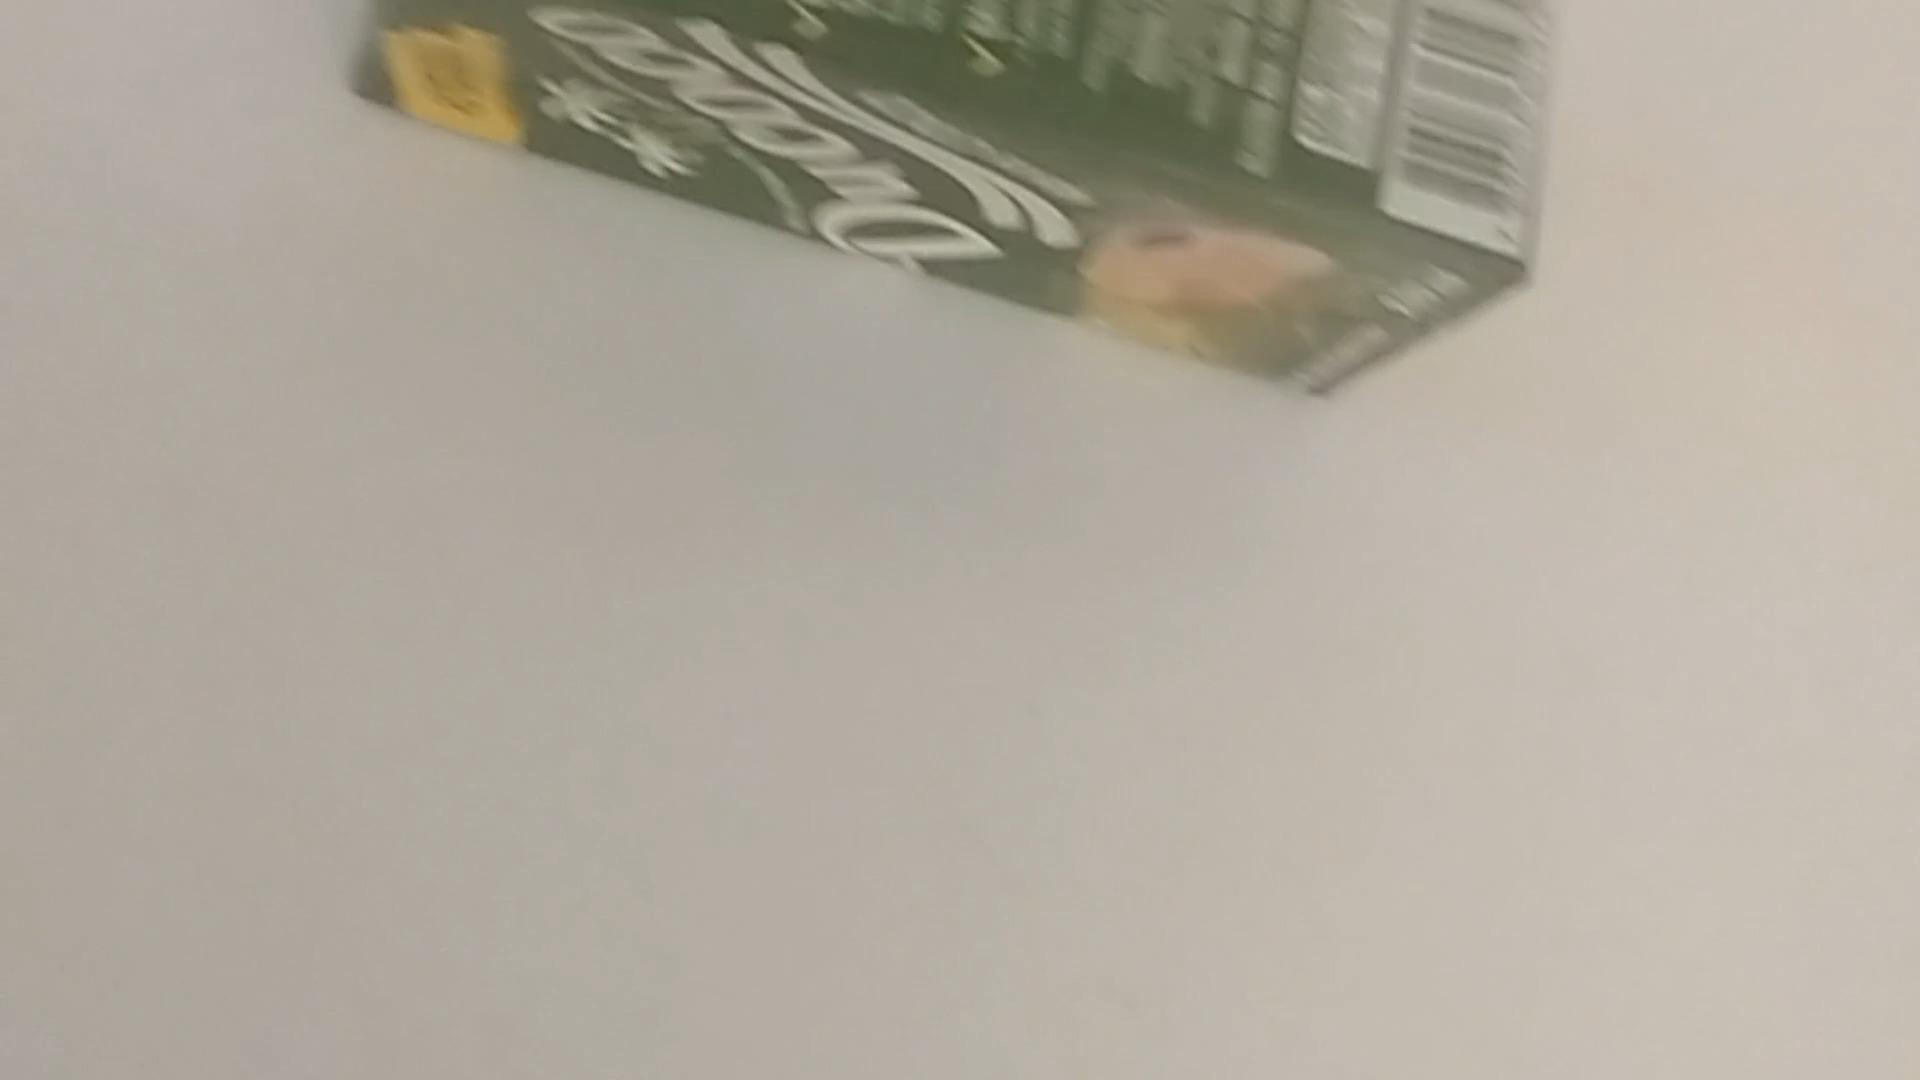coco: (343, 0, 1590, 413)
